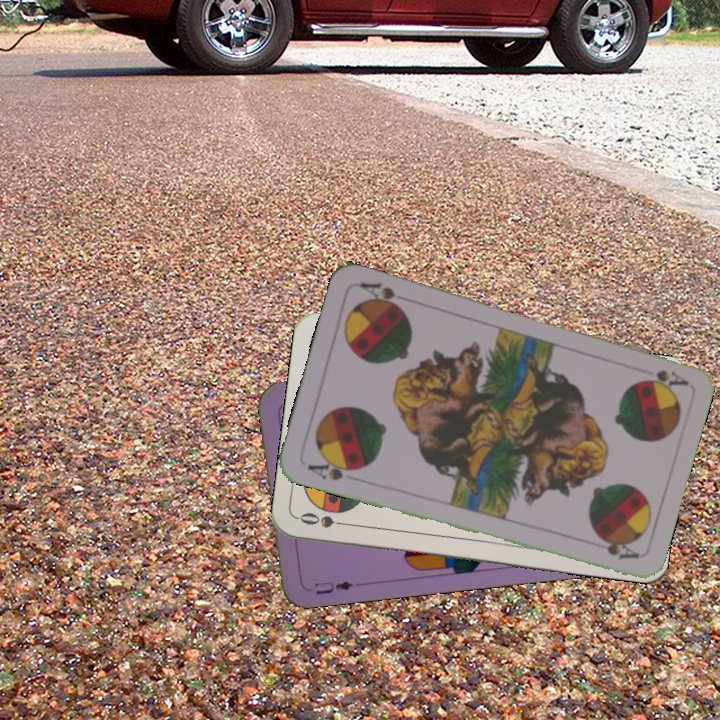EU: (310, 577, 362, 598)
SA: (303, 454, 362, 483), (640, 365, 690, 389)
SO: (295, 508, 354, 530)
